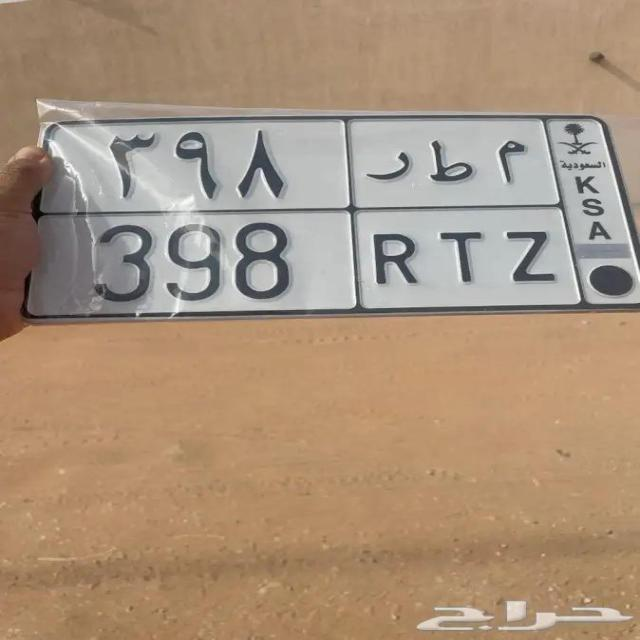license_plate: (31, 207, 586, 320)
